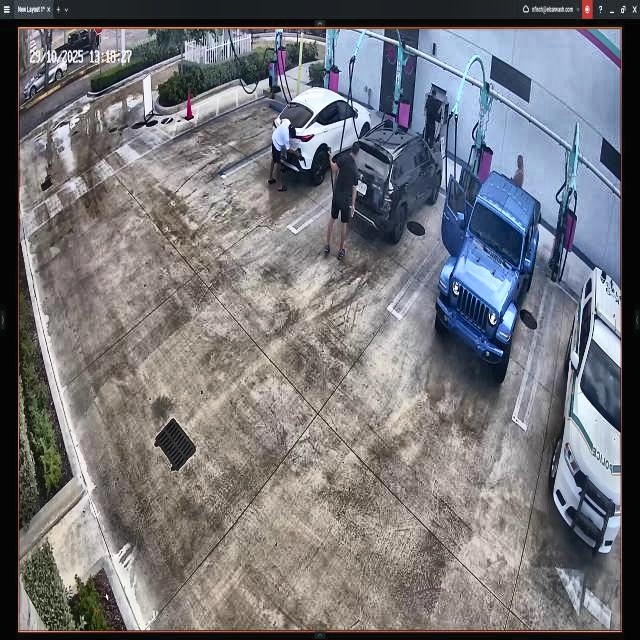Car: (435, 163, 541, 384), (344, 123, 442, 236), (276, 88, 371, 190)
